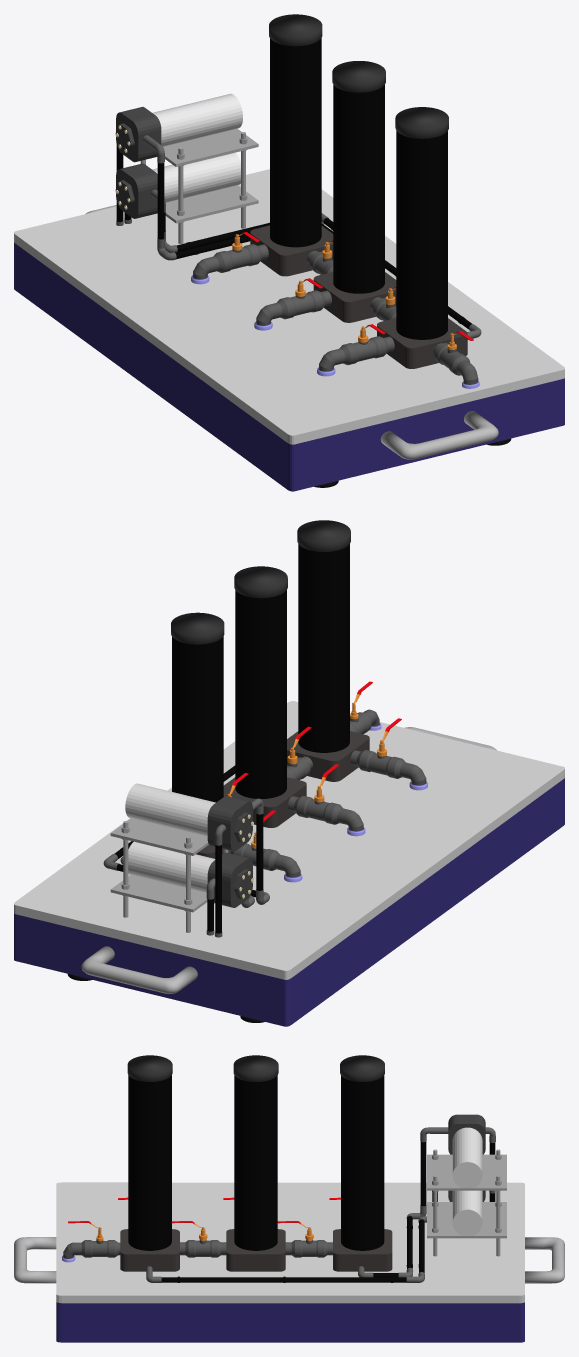
Rendered from threeTankSystem6groupedGoodTwoEngines.fbx.
3 views of the same model, one above another, from view 1: azimuth 30°, elevation 25°; view 2: azimuth 150°, elevation 25°; view 3: azimuth 270°, elevation 25° (orthographic). The views are drawn at different scales.
Visible parts, largest first — view 1: HydroPump; view 2: HydroPump; view 3: HydroPump.
Boxes of the visible parts, bbox=[...] form: HydroPump: bbox=[14, 14, 564, 491]; HydroPump: bbox=[14, 520, 564, 1026]; HydroPump: bbox=[14, 1055, 564, 1342].
Size of the model in its own units: 1234 by 1296 by 2537.
